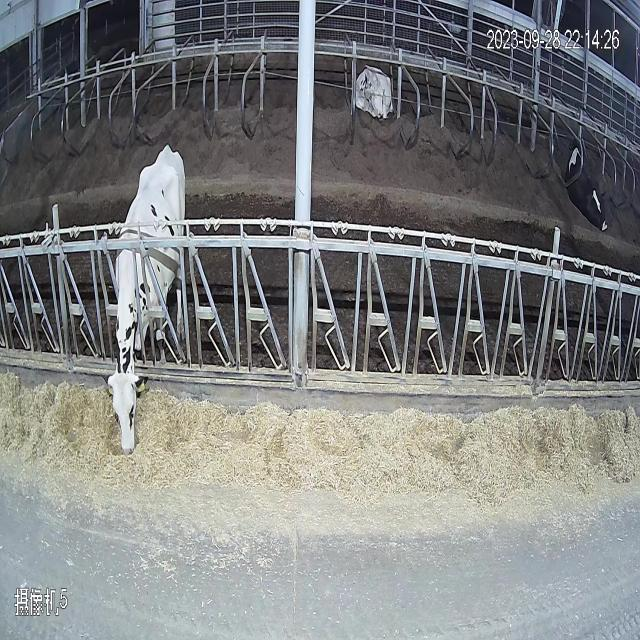feeding: (95, 115, 220, 468)
lying down: (564, 116, 620, 236), (348, 40, 408, 138)
